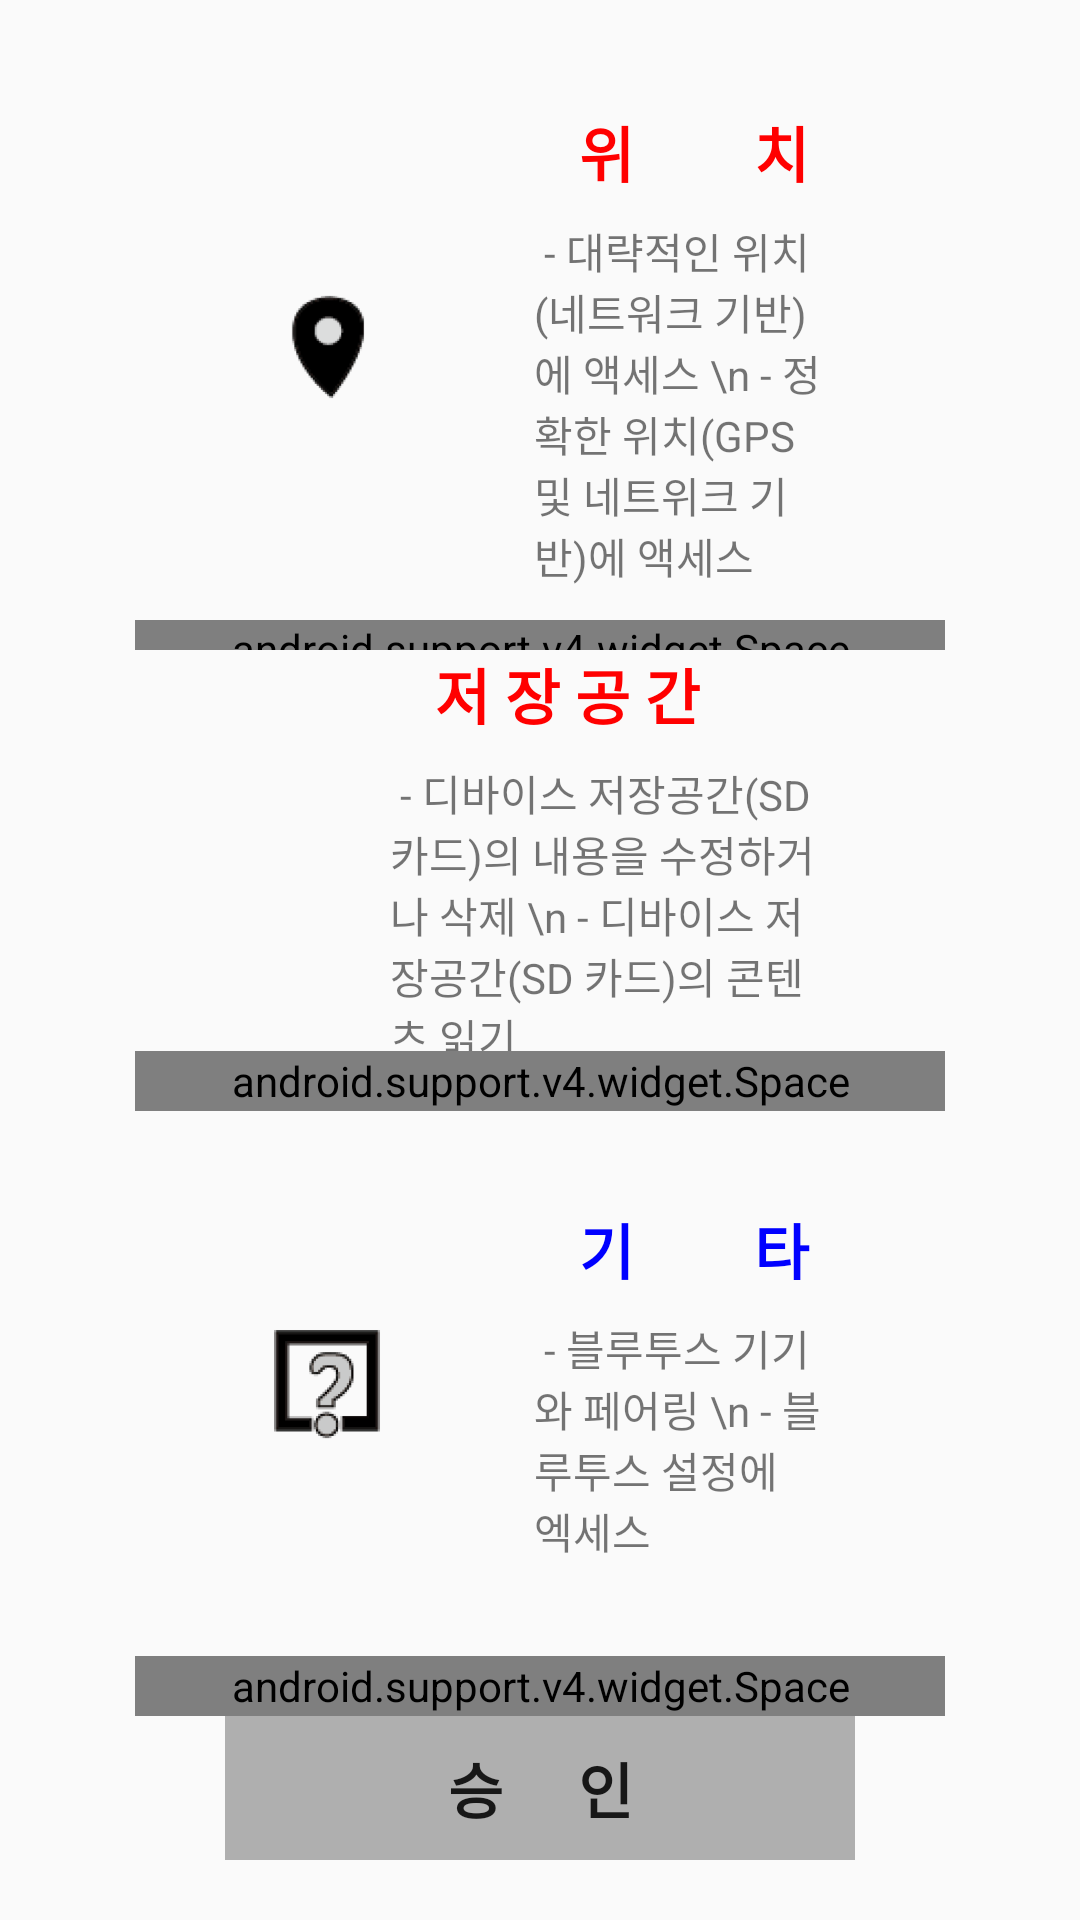

Locate icon controls on the screen. Image size 1080 x 1920, boxes as (x1, y1, x2, y2).
location: (292, 296, 364, 398)
